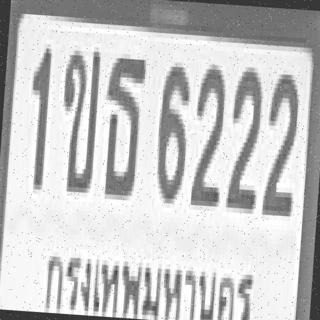A02: (55, 45, 102, 194)
A24: (100, 52, 147, 200)
N01: (24, 43, 53, 192)
N02: (261, 74, 301, 217), (226, 64, 264, 212), (188, 64, 226, 207)
N06: (152, 60, 192, 205)
P04: (38, 230, 262, 320)
